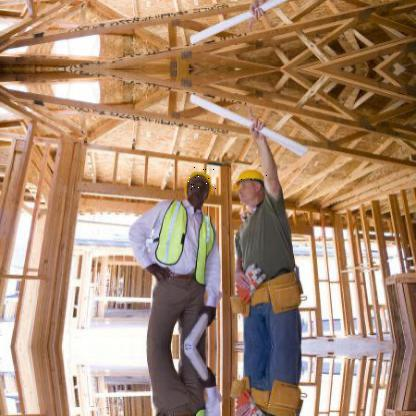safetyhelmet: (231, 164, 268, 192), (180, 168, 217, 192)
